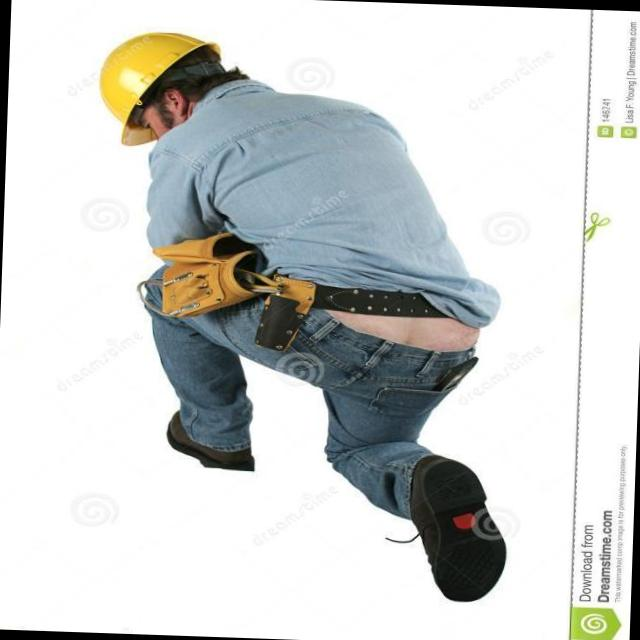boots: (400, 450, 510, 605), (164, 408, 258, 474)
helmet: (94, 26, 225, 150)
